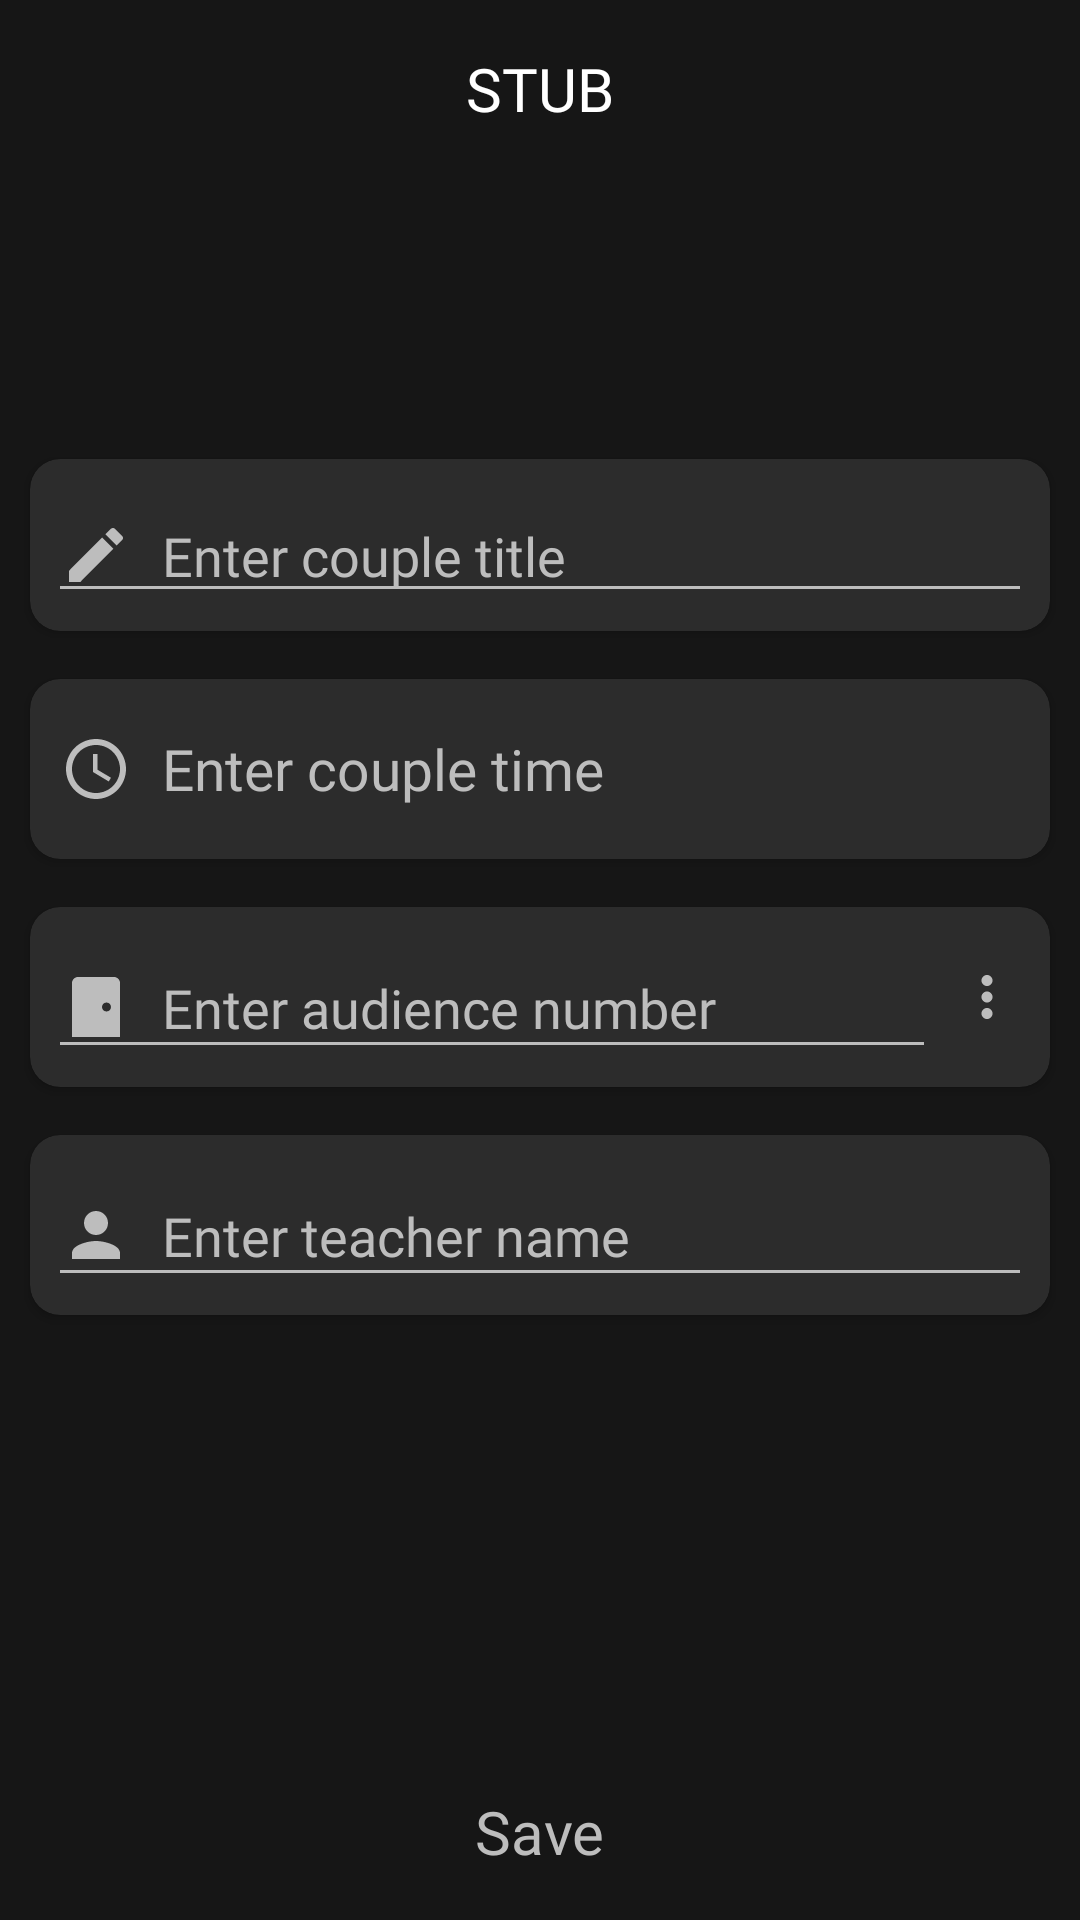

Screen size 1080 x 1920. Icon name, then its box in pixels as (x1, y1, x2, y2):
three dots: (981, 975, 993, 1019)
